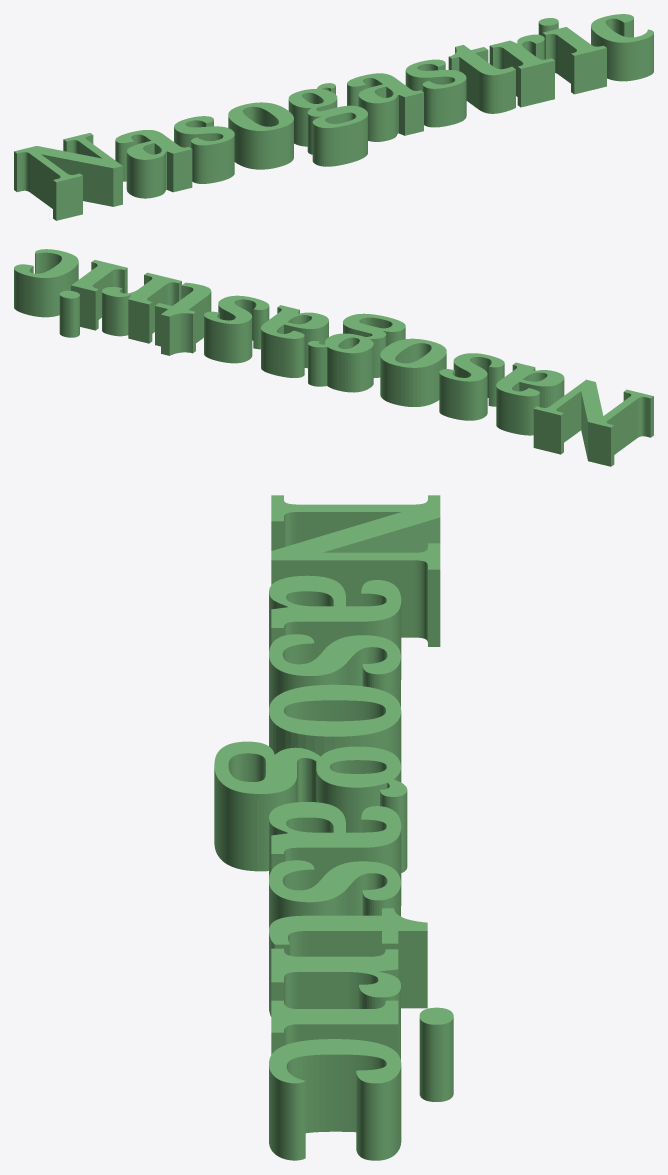
File: posnaso.gltf
3 views of the same model, one above another, from view 1: azimuth 30°, elevation 25°; view 2: azimuth 150°, elevation 25°; view 3: azimuth 270°, elevation 25° (orthographic). The views are drawn at different scales.
Visible parts, largest first — view 1: Mesh_Mesh_head_geo001_lambert2SG001; view 2: Mesh_Mesh_head_geo001_lambert2SG001; view 3: Mesh_Mesh_head_geo001_lambert2SG001.
Boxes of the visible parts, x1,y1,x2,y2 form: Mesh_Mesh_head_geo001_lambert2SG001: (14, 14, 653, 220); Mesh_Mesh_head_geo001_lambert2SG001: (14, 249, 653, 466); Mesh_Mesh_head_geo001_lambert2SG001: (214, 495, 453, 1160).
Bounding box in the file's own units: 163 × 10 × 28.06.
